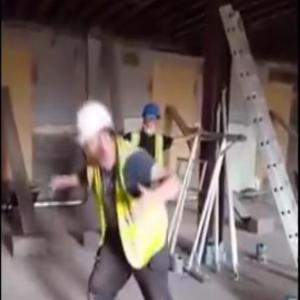blue: (140, 101, 161, 137)
white: (75, 97, 117, 169)
